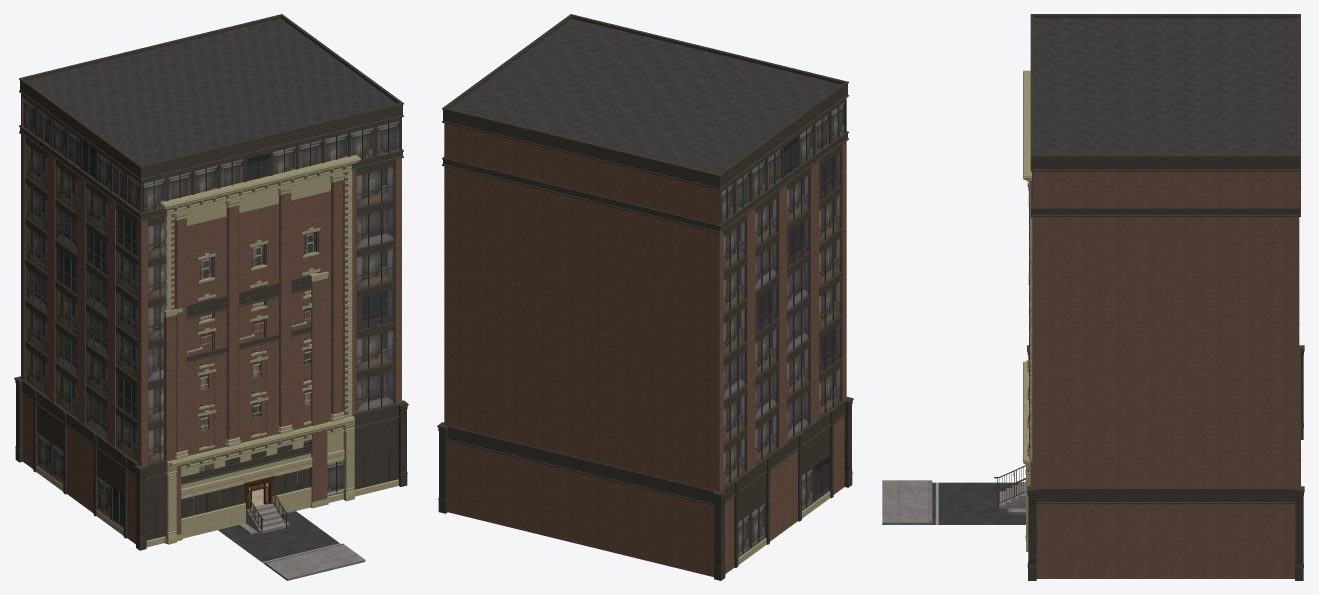
Rendered from megakit.glb.
The picture shows the model from 3 angles, left to right: view 1: azimuth 30°, elevation 25°; view 2: azimuth 150°, elevation 25°; view 3: azimuth 270°, elevation 25°; orthographic projection. The views are drawn at different scales.
Parts seen in each view (by area): view 1: Building_Large_2, Building_Medium_2_001, Building_Small_1, Street_4Lane; view 2: Building_Large_2; view 3: Building_Large_2, Street_4Lane, Building_Medium_2_001, Building_Small_1.
Boxes of the visible parts, bbox=[...] form: Building_Large_2: bbox=[14, 14, 408, 550]; Building_Medium_2_001: bbox=[160, 154, 360, 544]; Building_Small_1: bbox=[163, 271, 328, 543]; Street_4Lane: bbox=[218, 511, 365, 580]; Building_Large_2: bbox=[437, 14, 853, 580]; Building_Large_2: bbox=[1027, 14, 1304, 580]; Street_4Lane: bbox=[882, 480, 1025, 524]; Building_Medium_2_001: bbox=[1023, 70, 1032, 551]; Building_Small_1: bbox=[994, 193, 1028, 508].
Bounding box in the file's own units: 20.64 × 28.15 × 25.32.
Materials: 13 (12 with a texture image).
